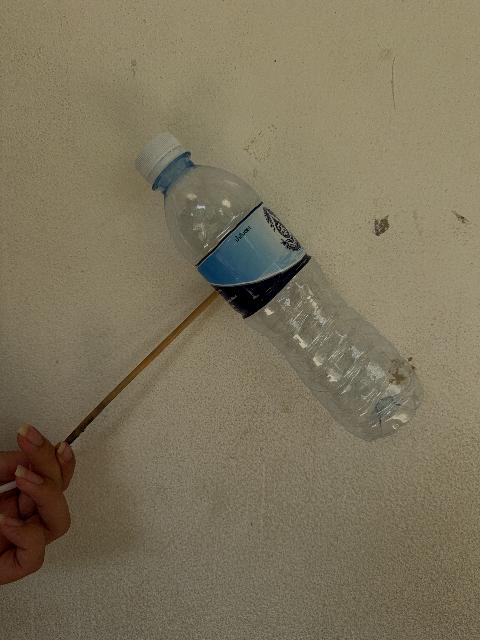bottle: (136, 133, 422, 440)
